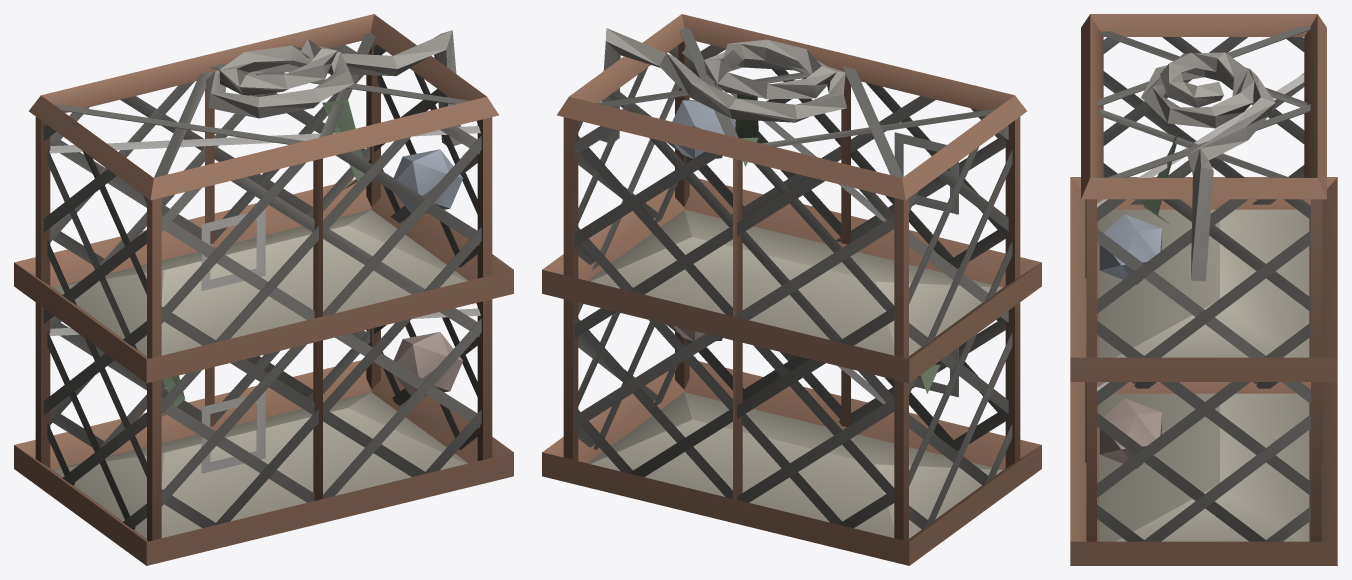
File: pots.glb
3 views of the same model, side by side, from view 1: azimuth 30°, elevation 25°; view 2: azimuth 150°, elevation 25°; view 3: azimuth 270°, elevation 25° (orthographic).
Parts seen in each view (by area): view 1: pots; view 2: pots; view 3: pots.
Part boxes in pixels (box(x1,y1,x2,y2)): pots: box(14, 14, 513, 565); pots: box(542, 14, 1041, 565); pots: box(1070, 14, 1337, 565).
Size of the model in its own units: 0.8184 by 0.8659 by 0.5.
